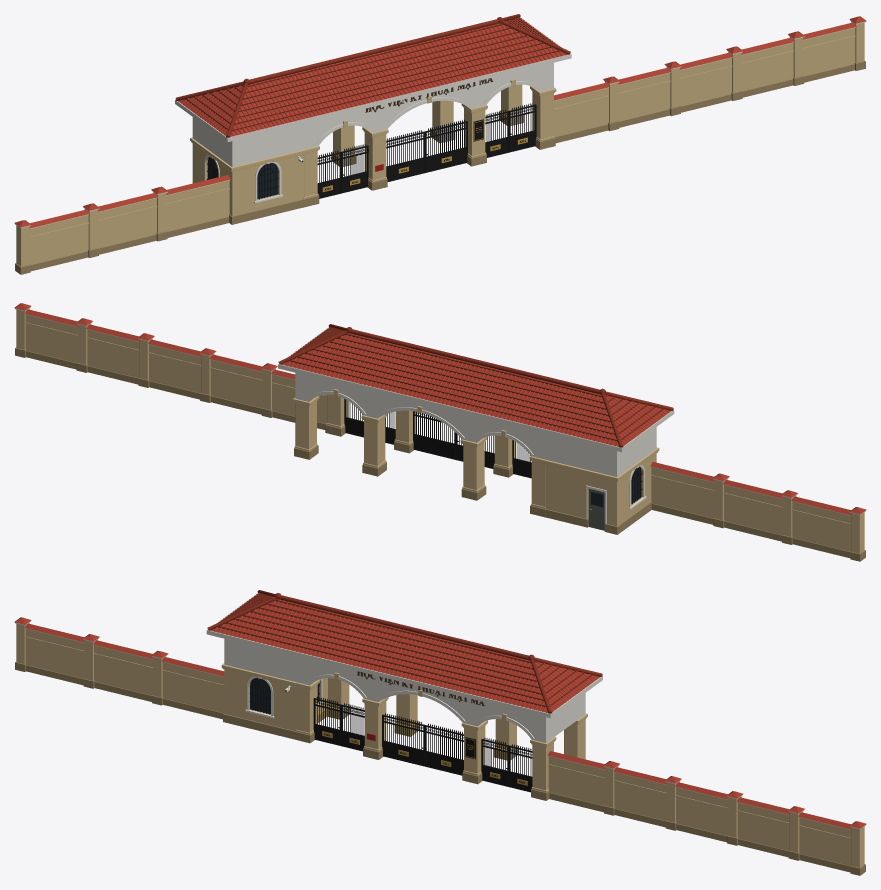
Rendered from KMA_Gate_dong.glb.
The picture shows the model from 3 angles, top to bottom: view 1: azimuth 30°, elevation 25°; view 2: azimuth 150°, elevation 25°; view 3: azimuth 330°, elevation 25°; orthographic projection.
Visible parts, largest first — view 1: KMA_Roof, KMA_Wall_Right, KMA_Structure, KMA_Wall_Left, KMA_Guardhouse, KMA_Gate_C_Right, KMA_Gate_C_Left, KMA_Gate_L_Right, KMA_Gate_R_Right, KMA_Gate_R_Left, KMA_Gate_L_Left, KMA_Signage; view 2: KMA_Roof, KMA_Wall_Right, KMA_Structure, KMA_Wall_Left, KMA_Guardhouse, KMA_Gate_C_Right, KMA_Gate_L_Right, KMA_Gate_R_Right; view 3: KMA_Roof, KMA_Wall_Right, KMA_Structure, KMA_Wall_Left, KMA_Guardhouse, KMA_Gate_C_Left, KMA_Gate_C_Right, KMA_Gate_R_Left, KMA_Gate_L_Left, KMA_Gate_L_Right, KMA_Gate_R_Right, KMA_Signage.
Part boxes in pixels (x1,y1,x2,y2): KMA_Roof: [175, 14, 571, 142]; KMA_Wall_Right: [554, 16, 866, 143]; KMA_Structure: [303, 63, 556, 207]; KMA_Wall_Left: [14, 175, 230, 274]; KMA_Guardhouse: [190, 117, 304, 224]; KMA_Gate_C_Right: [425, 119, 467, 172]; KMA_Gate_C_Left: [386, 130, 425, 181]; KMA_Gate_L_Right: [341, 144, 368, 193]; KMA_Gate_R_Right: [509, 103, 536, 152]; KMA_Gate_R_Left: [485, 109, 508, 157]; KMA_Gate_L_Left: [317, 150, 341, 198]; KMA_Signage: [365, 78, 492, 171]; KMA_Roof: [278, 324, 674, 452]; KMA_Wall_Right: [14, 303, 326, 429]; KMA_Structure: [293, 372, 545, 517]; KMA_Wall_Left: [650, 462, 866, 561]; KMA_Guardhouse: [544, 427, 659, 534]; KMA_Gate_C_Right: [413, 411, 455, 459]; KMA_Gate_L_Right: [512, 440, 531, 478]; KMA_Gate_R_Right: [344, 399, 363, 437]; KMA_Roof: [206, 590, 602, 718]; KMA_Wall_Right: [547, 751, 866, 875]; KMA_Structure: [294, 656, 587, 800]; KMA_Wall_Left: [14, 617, 224, 719]; KMA_Guardhouse: [221, 638, 327, 739]; KMA_Gate_C_Left: [382, 713, 424, 766]; KMA_Gate_C_Right: [425, 723, 463, 775]; KMA_Gate_R_Left: [481, 737, 508, 786]; KMA_Gate_L_Left: [313, 696, 341, 745]; KMA_Gate_L_Right: [341, 703, 364, 751]; KMA_Gate_R_Right: [508, 744, 532, 792]; KMA_Signage: [357, 671, 484, 759].
Bounding box in the file's own units: 49.46 × 6.85 × 5.34.
